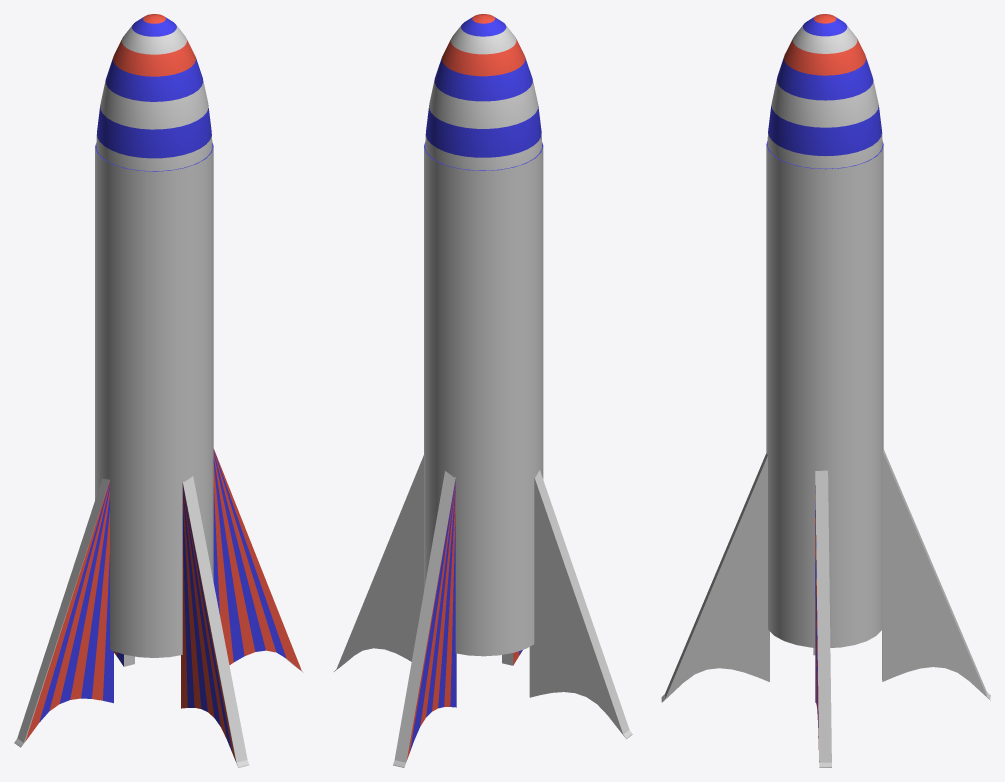
File: missle.FBX
The picture shows the model from 3 angles, left to right: view 1: azimuth 30°, elevation 25°; view 2: azimuth 150°, elevation 25°; view 3: azimuth 270°, elevation 25°; orthographic projection.
Parts seen in each view (by area): view 1: Line03; view 2: Line03; view 3: Line03.
Boxes of the visible parts, x1,y1,x2,y2 form: Line03: (14,14,303,767); Line03: (334,14,632,767); Line03: (661,14,990,767).
Size of the model in its own units: 147 by 337 by 147.
